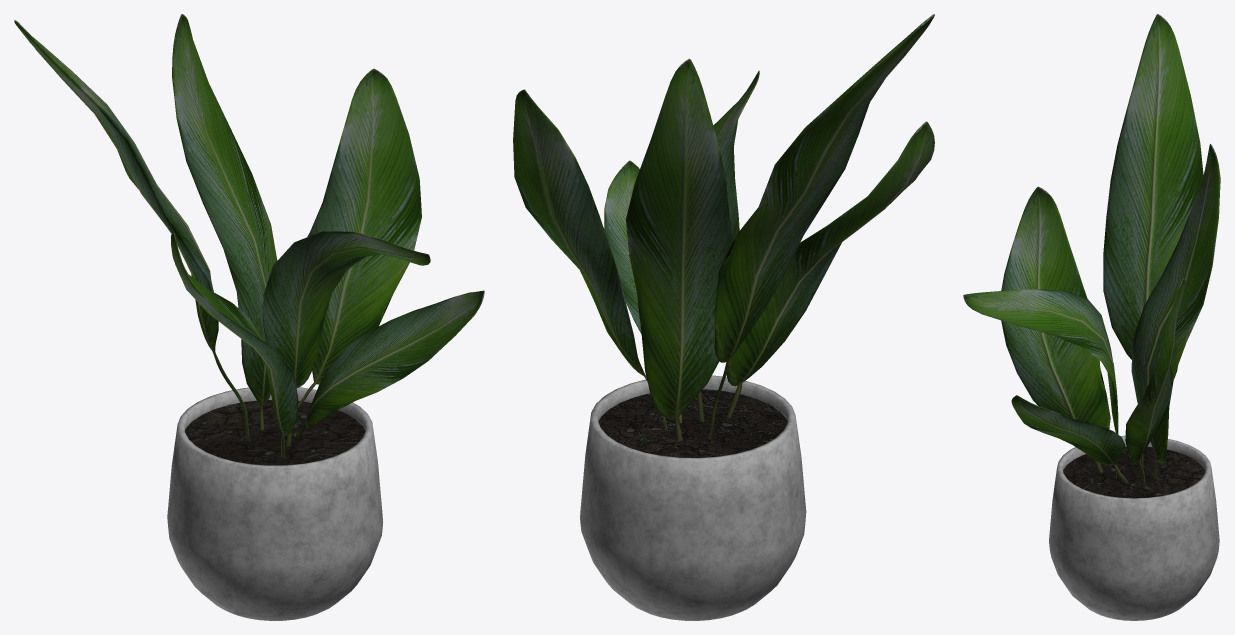
3 renders of one model, left to right at view 1: azimuth 30°, elevation 25°; view 2: azimuth 150°, elevation 25°; view 3: azimuth 270°, elevation 25°, orthographic. The views are drawn at different scales.
Parts seen in each view (by area): view 1: Pot A, Plane A1.002, Plane A1.001, Plane A1.005, Plane A1.004, Circle, Plane A1, Plane A1.003; view 2: Pot A, Plane A1.001, Plane A1, Plane A1.002, Plane A1.003, Circle, Plane A1.004, Plane A1.005; view 3: Pot A, Plane A1, Plane A1.003, Plane A1.001, Plane A1.005, Circle, Plane A1.002, Plane A1.004.
Part boxes in pixels (left/top/right/bottom): Pot A: left=167, top=387, right=383, bottom=620; Plane A1.002: left=297, top=68, right=421, bottom=408; Plane A1.001: left=172, top=14, right=277, bottom=430; Plane A1.005: left=263, top=231, right=430, bottom=446; Plane A1.004: left=294, top=290, right=484, bottom=438; Circle: left=185, top=400, right=365, bottom=465; Plane A1: left=14, top=20, right=249, bottom=440; Plane A1.003: left=171, top=233, right=298, bottom=458; Pot A: left=580, top=375, right=806, bottom=620; Plane A1.001: left=625, top=58, right=733, bottom=440; Plane A1: left=709, top=14, right=934, bottom=439; Plane A1.002: left=513, top=89, right=667, bottom=430; Plane A1.003: left=726, top=121, right=934, bottom=418; Circle: left=598, top=389, right=787, bottom=457; Plane A1.004: left=604, top=160, right=682, bottom=423; Plane A1.005: left=697, top=70, right=759, bottom=421; Pot A: left=1049, top=435, right=1219, bottom=620; Plane A1: left=1103, top=14, right=1203, bottom=468; Plane A1.003: left=1001, top=186, right=1110, bottom=472; Plane A1.001: left=1131, top=144, right=1220, bottom=477; Plane A1.005: left=963, top=289, right=1118, bottom=479; Circle: left=1063, top=446, right=1205, bottom=498; Plane A1.002: left=1125, top=278, right=1185, bottom=484; Plane A1.004: left=1011, top=395, right=1128, bottom=483.
Size of the model in its own units: 0.6366 by 0.9455 by 0.4464.
Materials: 3 (3 with a texture image).
